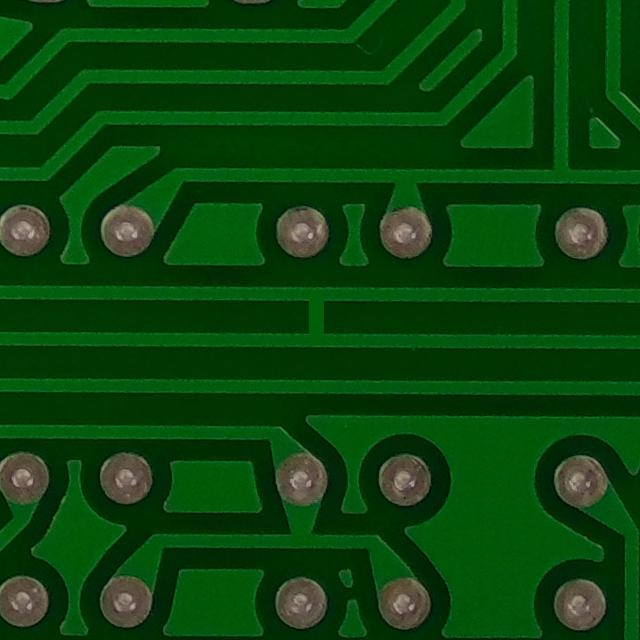short: (291, 279, 349, 361)
